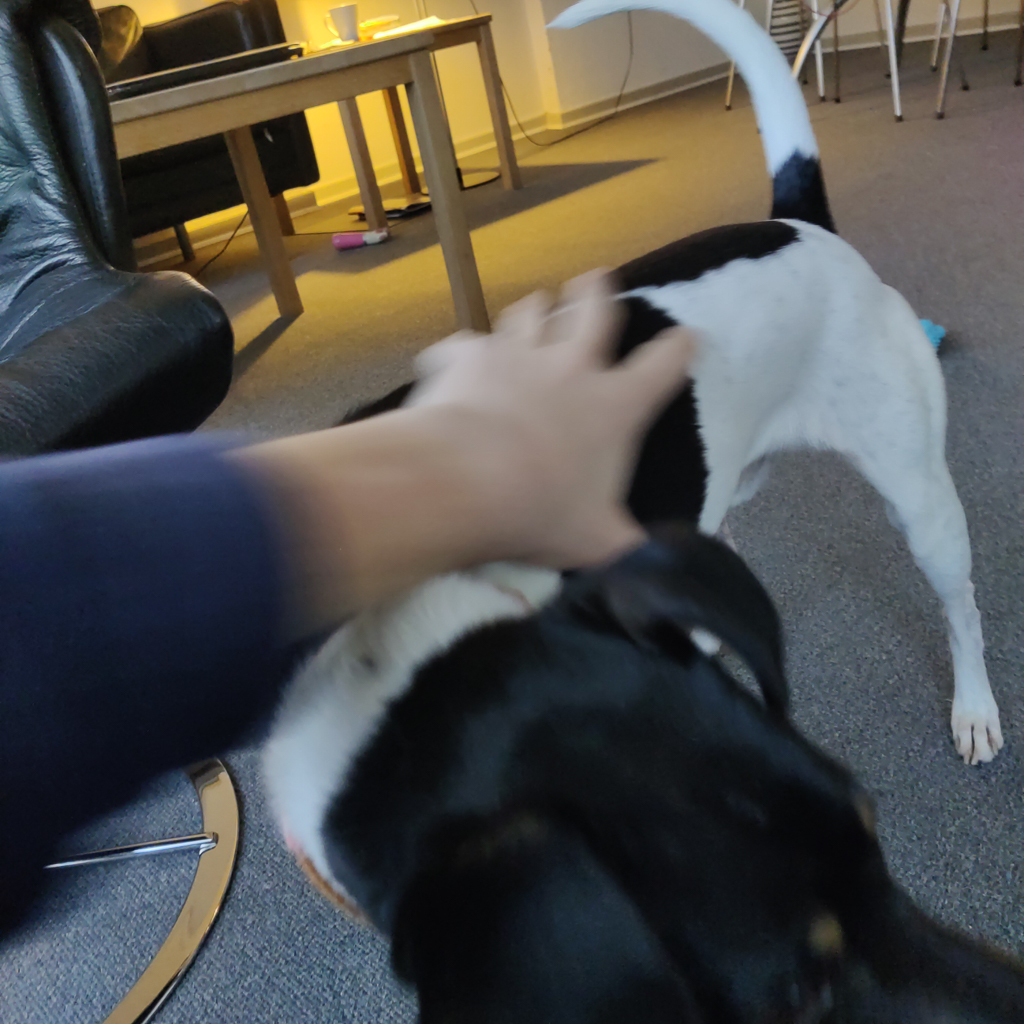Dog: (187, 0, 1024, 1024)
Humanoid: (0, 259, 723, 989)
